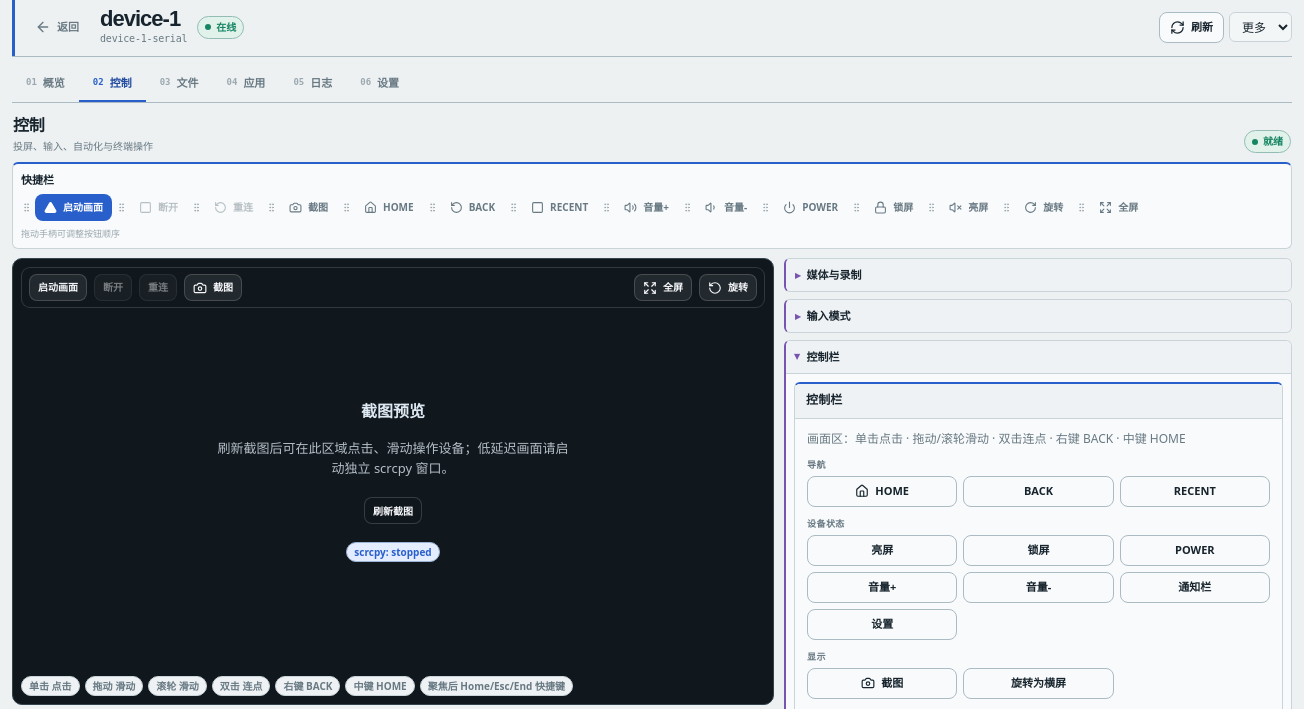
DeviceDetail refresh ordering › keeps the current device scrcpy status when the previous status resolves later
The width and height of the screenshot is (1304, 709).
Click the button "刷新".
click(1192, 27)  # box [1159,12,1224,43]
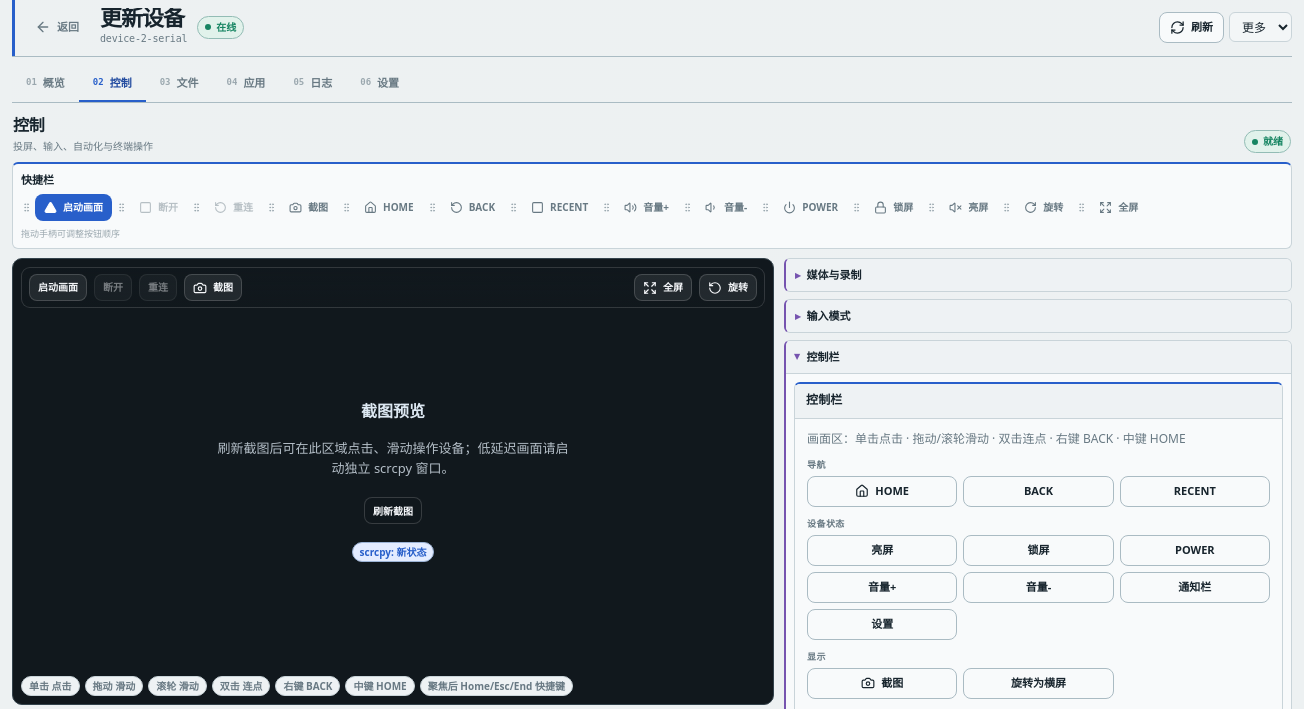
Expected: the text "scrcpy: 新状态" is shown, [352,542,434,562]
